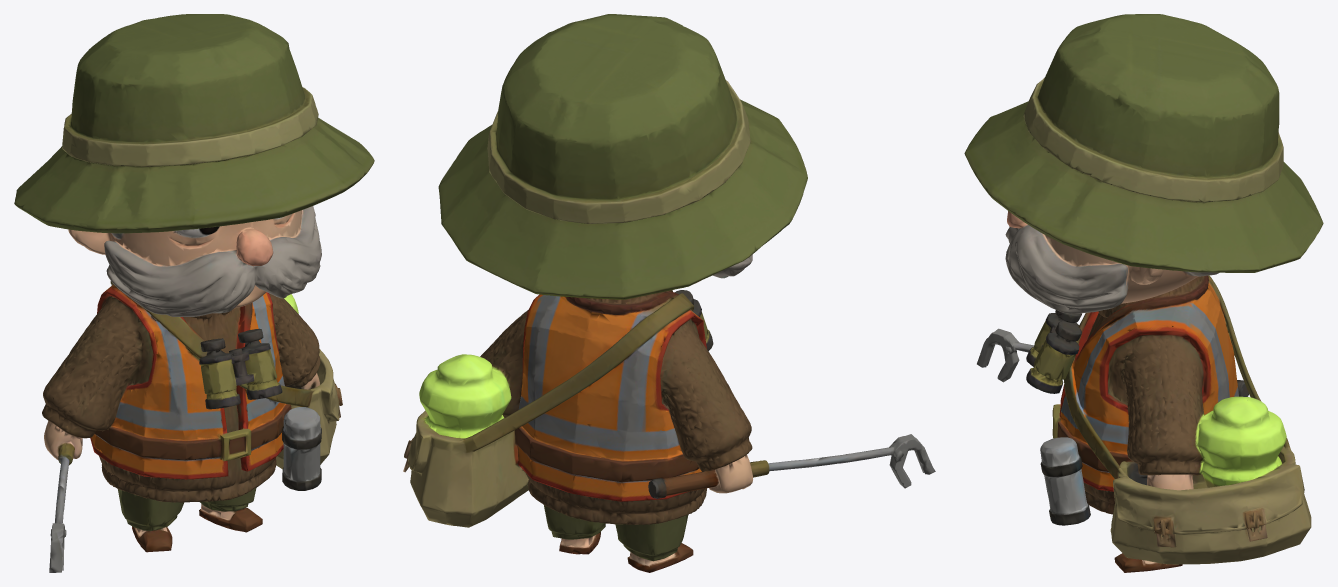
Rendered from jigi-c.glb.
3 renders of one model, left to right at view 1: azimuth 30°, elevation 25°; view 2: azimuth 150°, elevation 25°; view 3: azimuth 270°, elevation 25°, orthographic. The views are drawn at different scales.
Parts seen in each view (by area): view 1: tripo_node_6a8ed147-0ce1-44e4-b213-c8a8ab0883d1; view 2: tripo_node_6a8ed147-0ce1-44e4-b213-c8a8ab0883d1; view 3: tripo_node_6a8ed147-0ce1-44e4-b213-c8a8ab0883d1.
Part boxes in pixels (bbox=[...]): tripo_node_6a8ed147-0ce1-44e4-b213-c8a8ab0883d1: bbox=[14, 14, 374, 572]; tripo_node_6a8ed147-0ce1-44e4-b213-c8a8ab0883d1: bbox=[403, 14, 935, 572]; tripo_node_6a8ed147-0ce1-44e4-b213-c8a8ab0883d1: bbox=[964, 14, 1323, 572].
Size of the model in its own units: 0.7885 by 0.9801 by 0.6256.
1 material, 1 textured.
